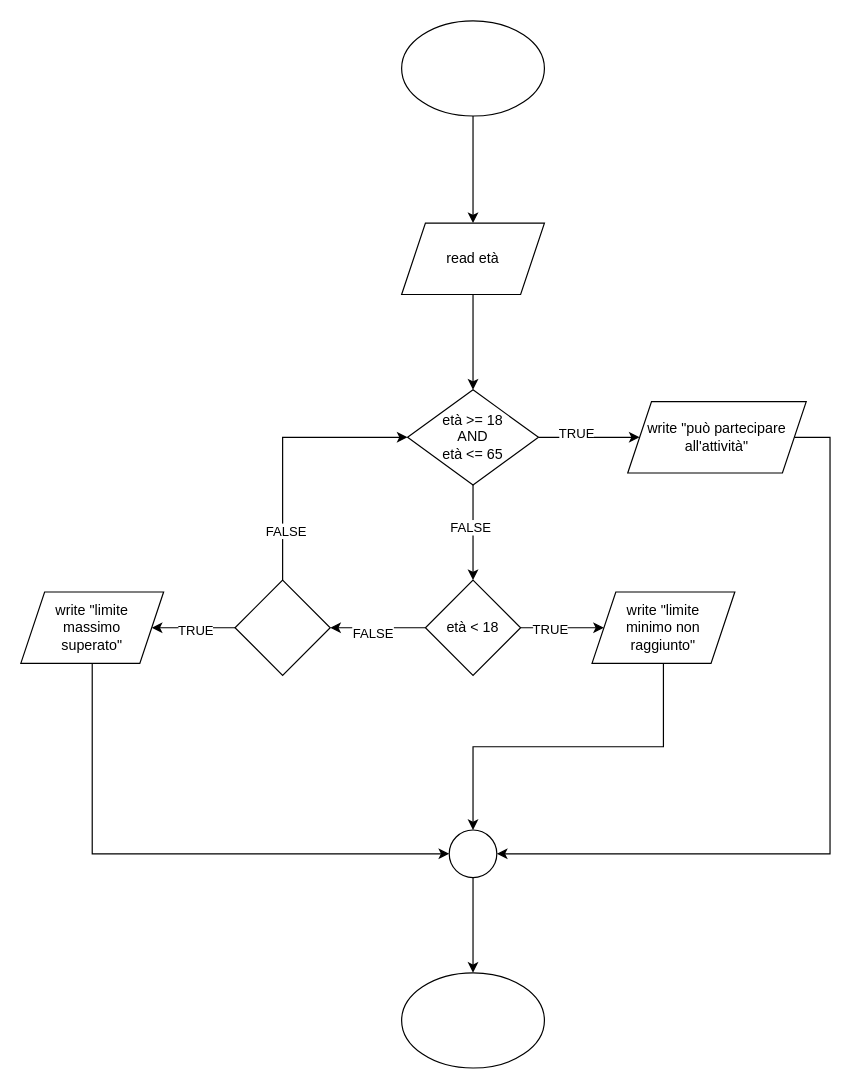
Some shapes in this 860 by 1089 pixel diagram are drawn without their labels. Each missing label, with the box of its shape:
END: (400, 972, 544, 1068)
età > 65: (234, 579, 330, 675)
START: (400, 20, 544, 116)
